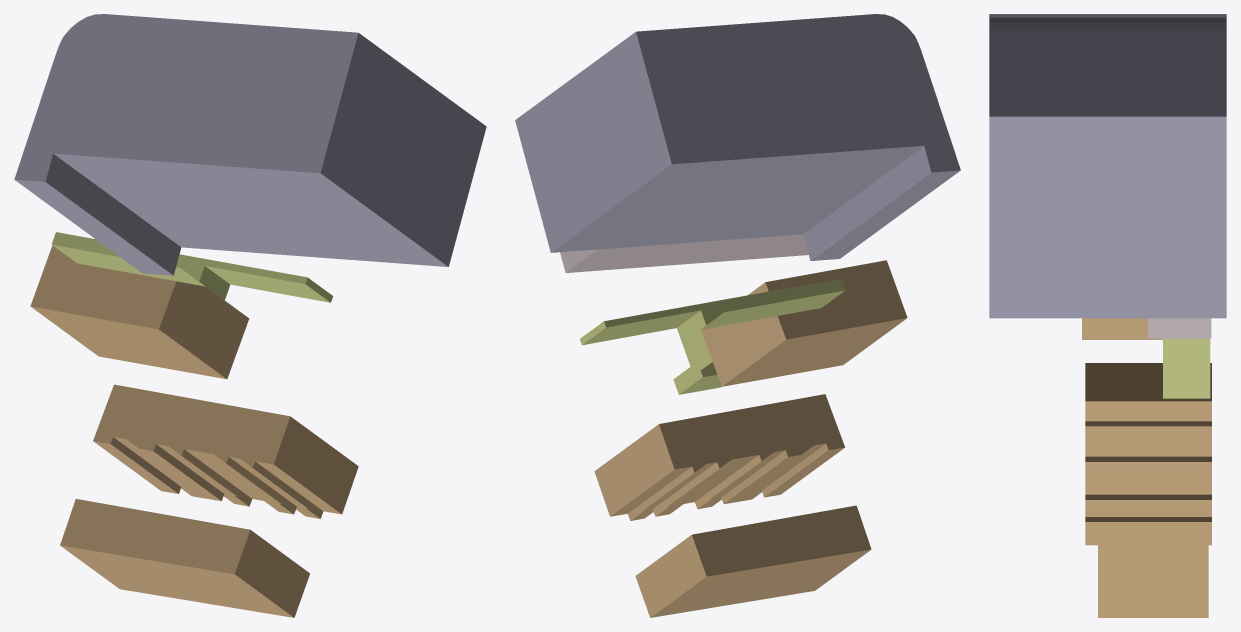
3 renders of one model, left to right at view 1: azimuth 30°, elevation 25°; view 2: azimuth 150°, elevation 25°; view 3: azimuth 270°, elevation 25°, orthographic. The views are drawn at different scales.
Parts seen in each view (by area): view 1: 0_0_1_2_3_0; view 2: 0_0_1_2_3_0; view 3: 0_0_1_2_3_0.
Boxes of the visible parts, <box> form: 0_0_1_2_3_0: <box>14,14,486,617</box>; 0_0_1_2_3_0: <box>515,14,960,617</box>; 0_0_1_2_3_0: <box>989,14,1226,617</box>.
Size of the model in its own units: 69.78 by 113 by 45.
